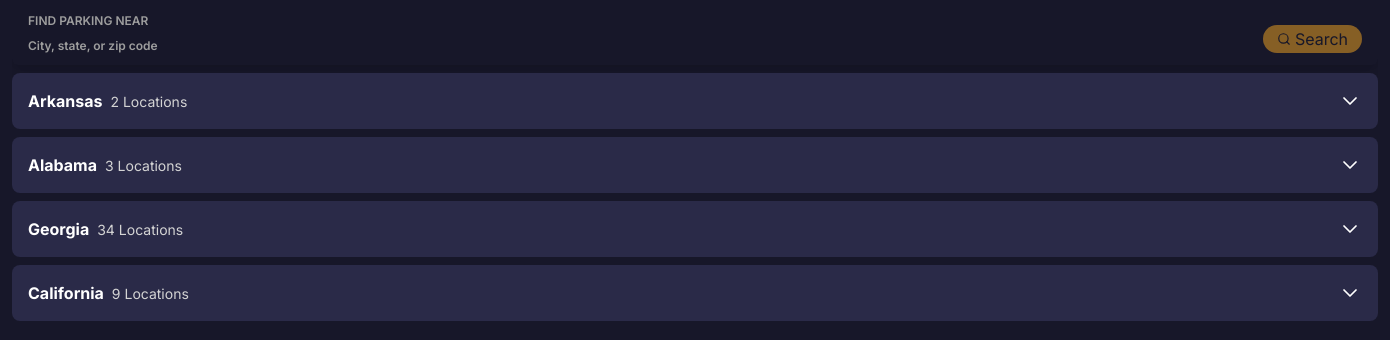
it: LocationsAccordion › submits the current location query when Enter is pressed
The width and height of the screenshot is (1390, 340).
Type "Arkansas" into the search field labelled "Find parking near" at [639, 45], box [28,33,1251,57]
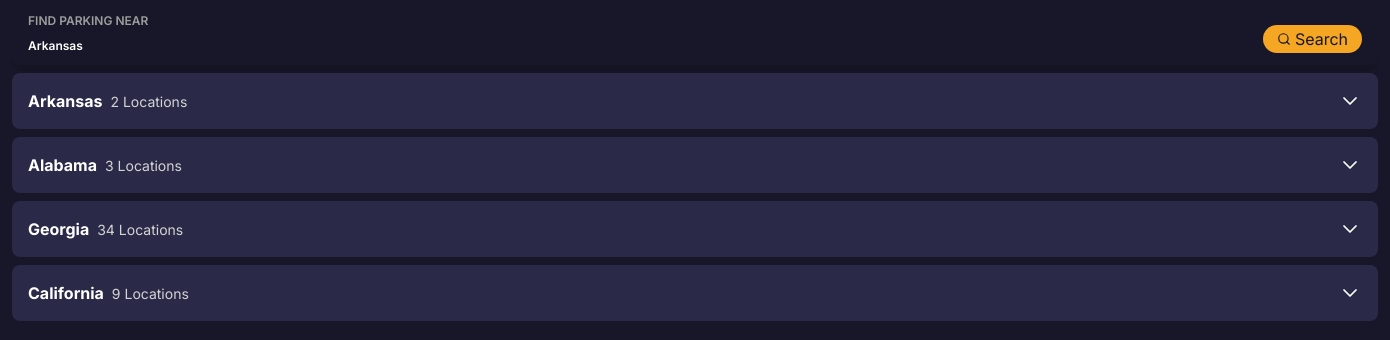
Press Enter in the search field labelled "Find parking near", box [28,33,1251,57]
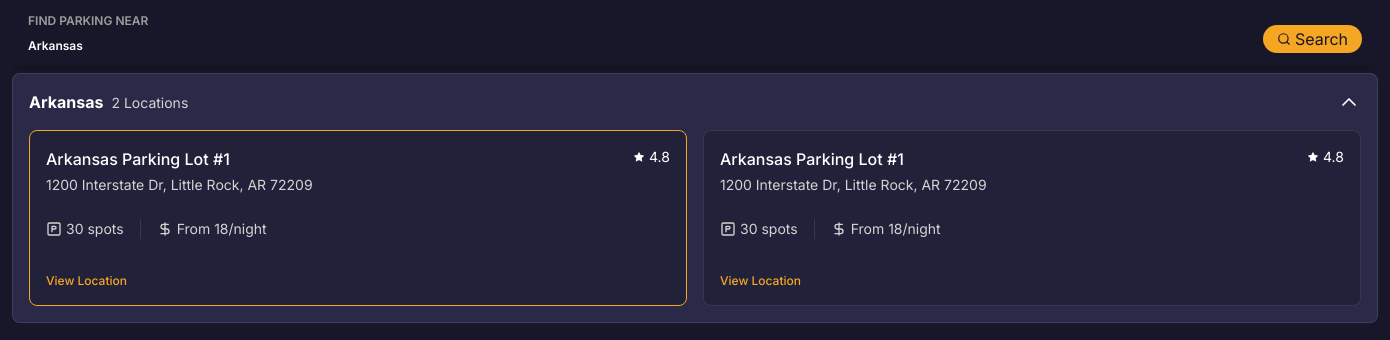
Expected: the button with aria-label "Arkansas, 2 Locations" is expanded, [29,90,1361,114]
